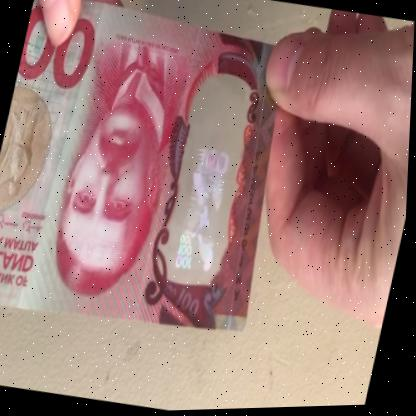100F: (169, 92, 253, 283)
